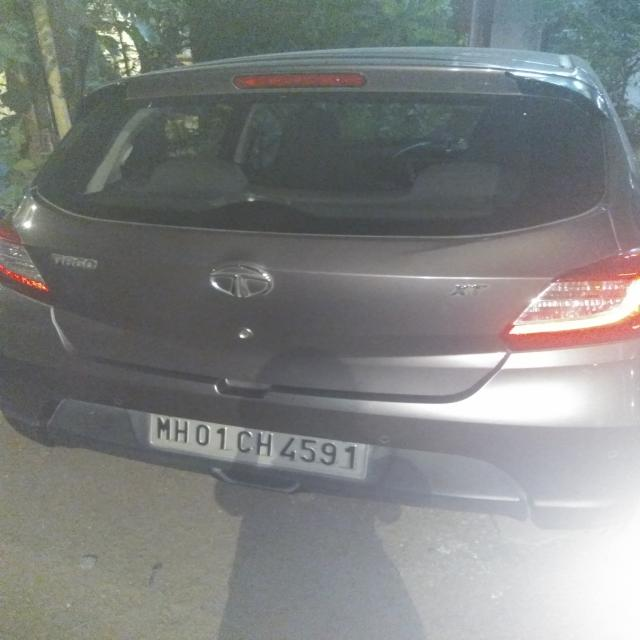Number-Plate: (147, 417, 366, 470)
